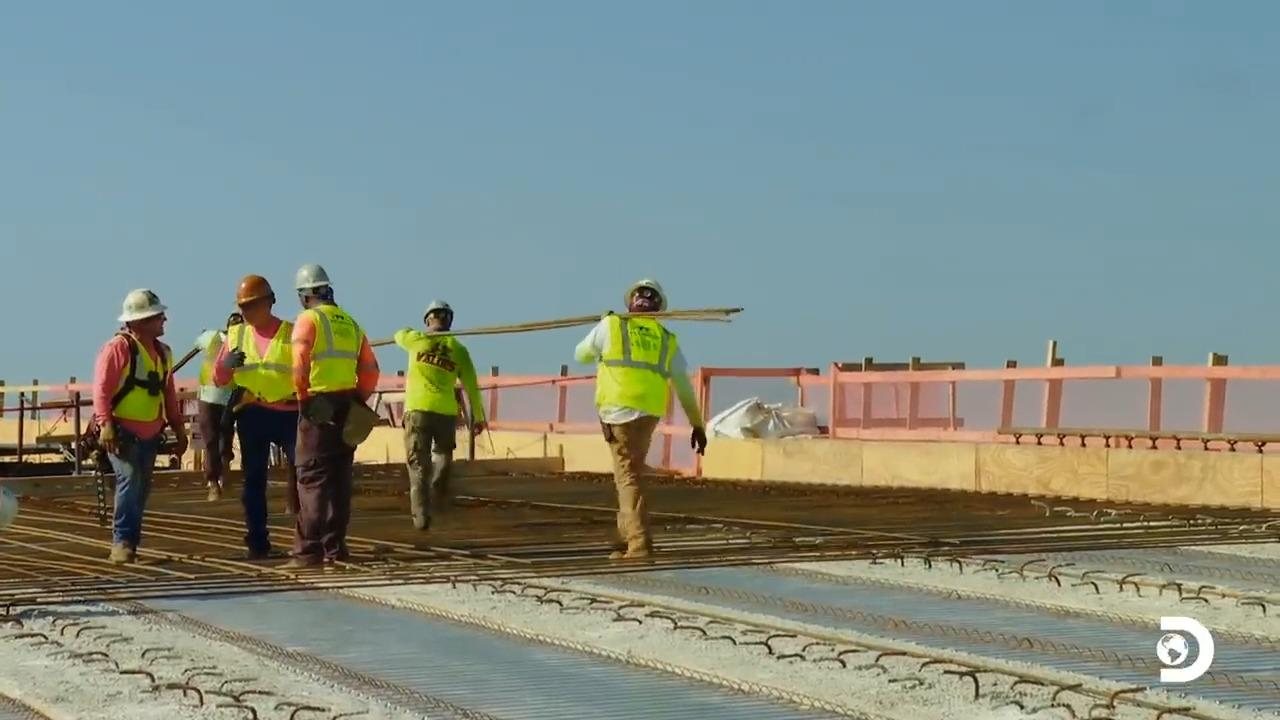Gloves: (221, 346, 249, 373), (690, 423, 709, 454)
Helmet: (117, 288, 168, 322), (623, 278, 667, 312), (235, 274, 274, 305), (294, 263, 330, 290), (422, 299, 453, 327)
Person: (573, 277, 707, 561), (283, 262, 380, 567), (91, 287, 189, 564), (212, 274, 301, 559), (393, 299, 488, 530), (193, 312, 244, 502)
Safety Boot: (286, 554, 326, 570), (611, 547, 650, 563), (239, 544, 270, 560), (330, 539, 353, 559), (207, 485, 224, 502)
Safety Vest: (597, 320, 665, 403), (301, 322, 360, 388), (234, 326, 287, 390)
no-vest: (407, 341, 460, 415)
